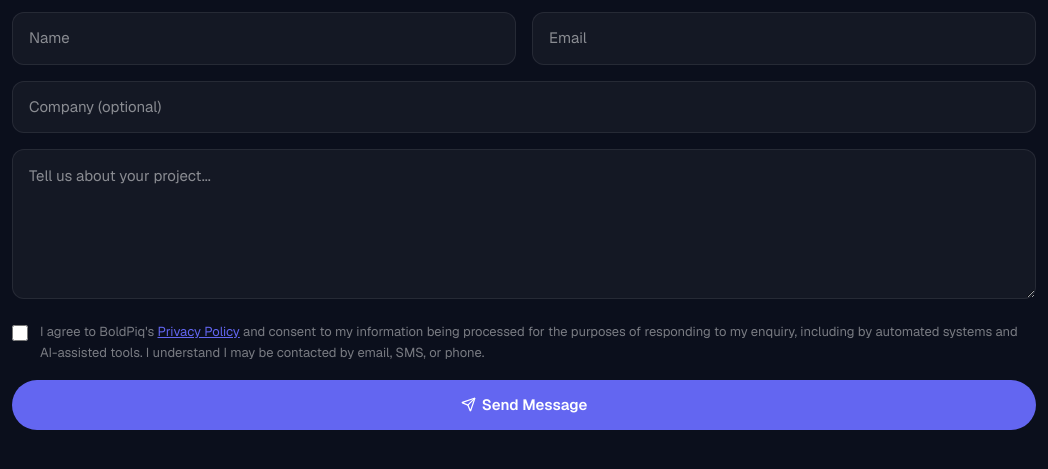
Test: ContactForm › validation — consent › shows error when consent not checked
Type "Jane Doe" into the field named "Your name" at coordinates (264, 38), box [12,12,516,64]
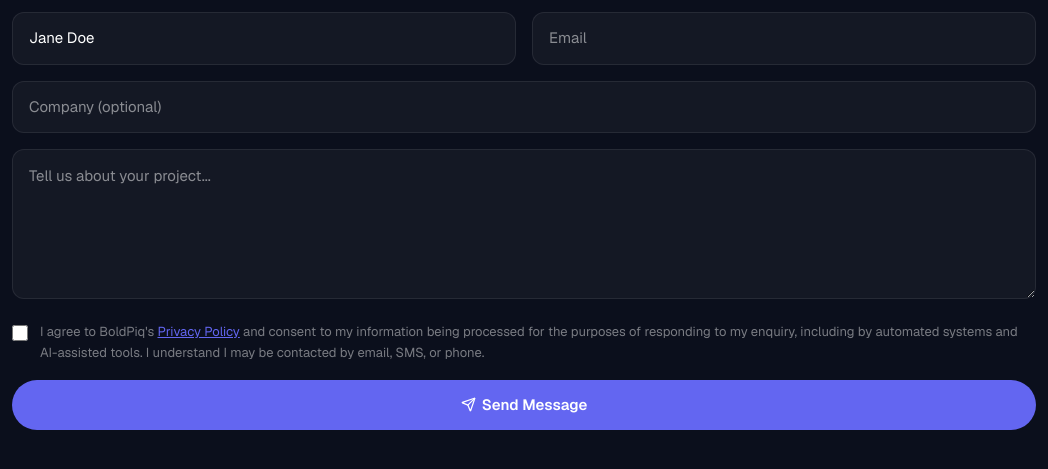
Type "jane@example.com" into the field named "Your email address" at coordinates (784, 38), box [532,12,1036,64]
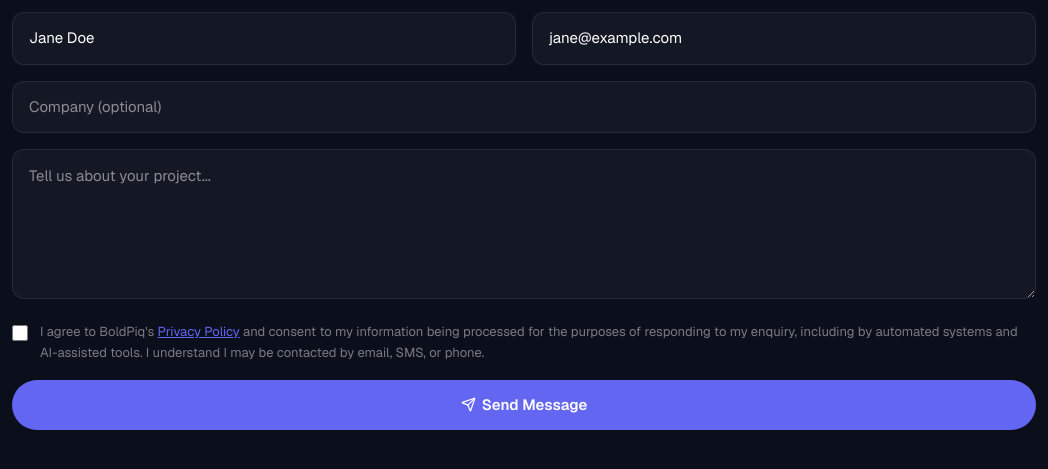
Type "This is a test message that is long enough." into the text box named "Project details" at coordinates (524, 224), box [12,149,1036,299]
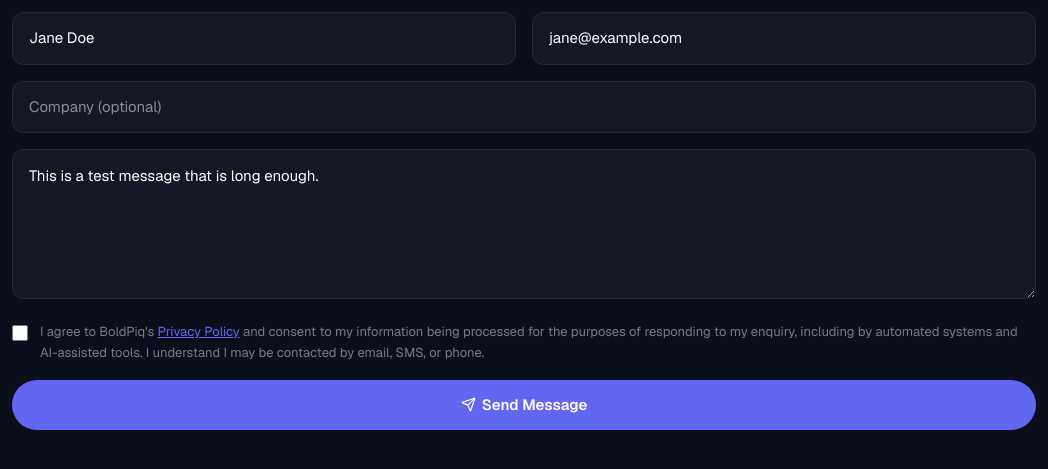
Submit the form named "send message"
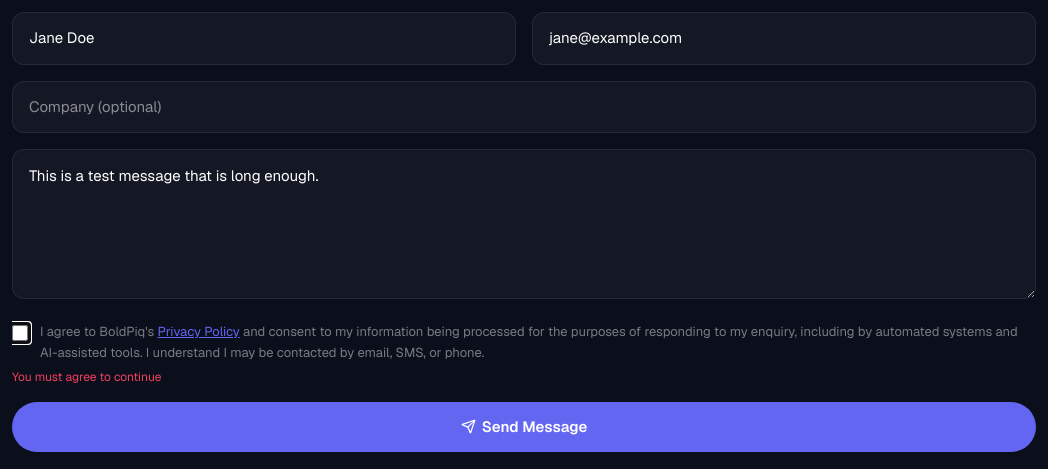
Expected: the text "You must agree to continue" is shown, [12,369,161,385]
